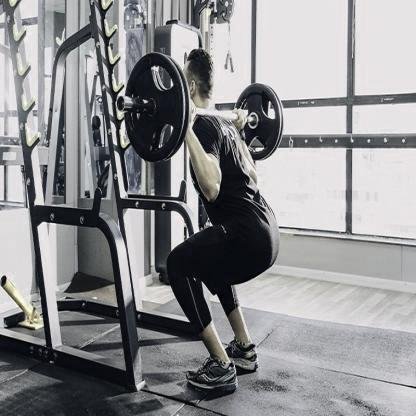Barbell: (113, 95, 125, 115)
